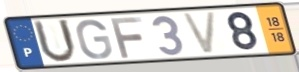3: (150, 13, 186, 58)
8: (226, 10, 261, 53)
F: (108, 15, 145, 59)
G: (74, 18, 114, 61)
U: (31, 18, 79, 65)
V: (180, 9, 219, 56)
